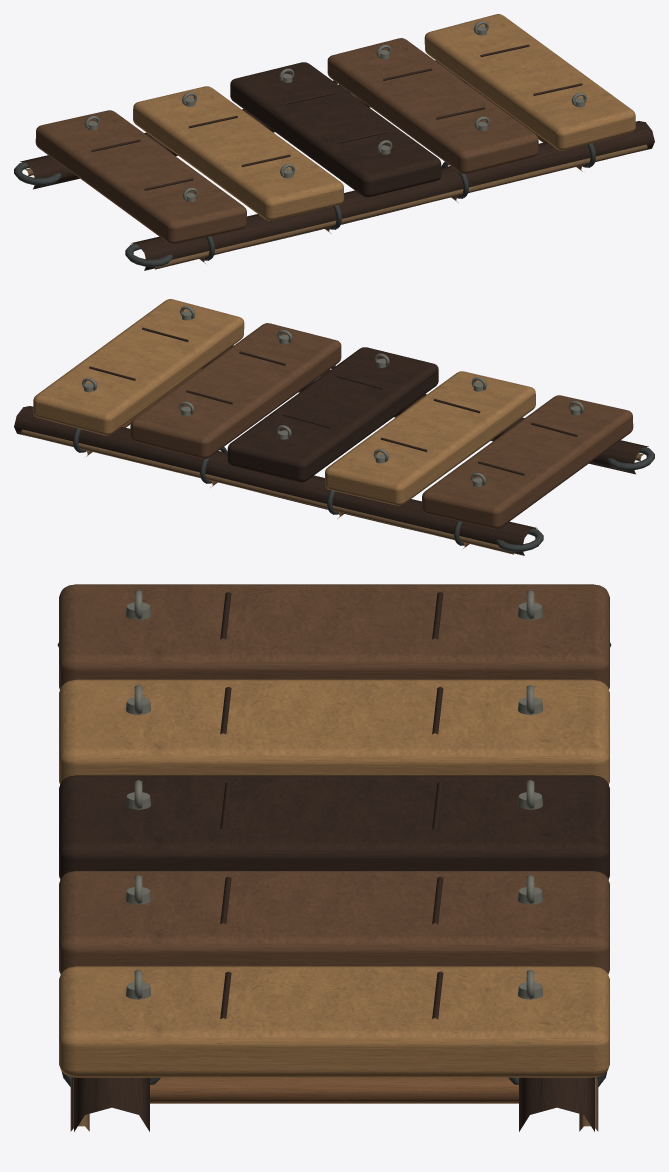
File: swamp_boardwalk.glb
3 renders of one model, top to bottom at view 1: azimuth 30°, elevation 25°; view 2: azimuth 150°, elevation 25°; view 3: azimuth 270°, elevation 25°, orthographic. The views are drawn at different scales.
Parts seen in each view (by area): view 1: swamp_boardwalk; view 2: swamp_boardwalk; view 3: swamp_boardwalk.
Part boxes in pixels (x1,y1,x2,y2): swamp_boardwalk: [14, 14, 654, 270]; swamp_boardwalk: [14, 299, 654, 555]; swamp_boardwalk: [57, 584, 611, 1131].
Bounding box in the file's own units: 2.8 × 0.35 × 1.3.
Materials: 1 (1 with a texture image).
